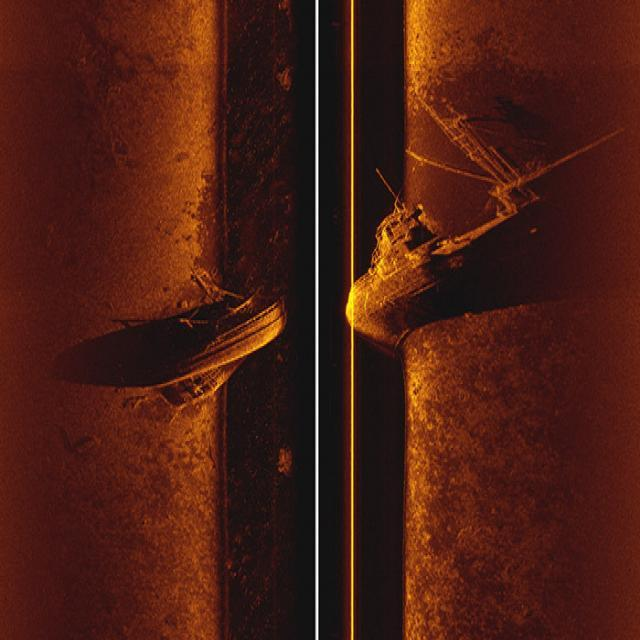shipwreck: (344, 184, 545, 342), (131, 287, 289, 415)
